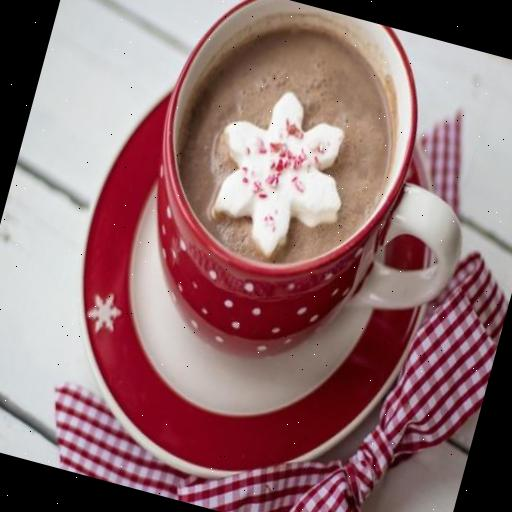cup: (110, 0, 512, 407)
